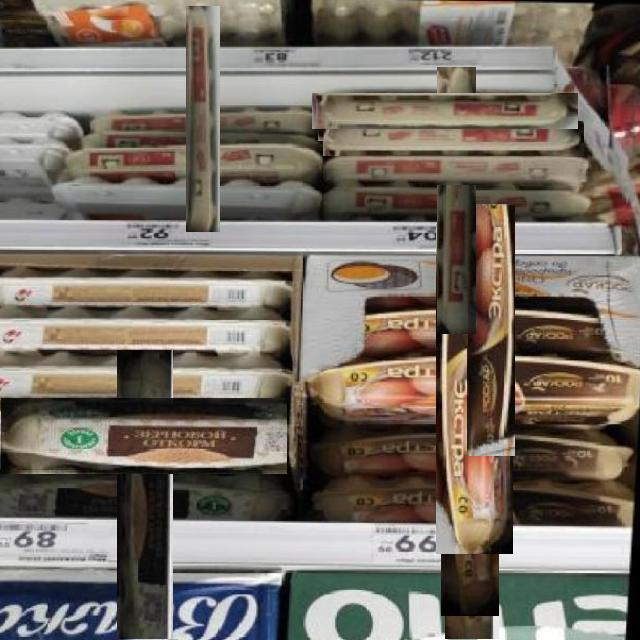Egg: (436, 223, 513, 554), (0, 398, 287, 474), (442, 291, 499, 616), (117, 349, 173, 639), (445, 340, 499, 640), (466, 204, 515, 456), (437, 66, 476, 334), (62, 142, 323, 182), (323, 147, 590, 185), (311, 92, 578, 129), (318, 120, 584, 156), (186, 6, 220, 232)
